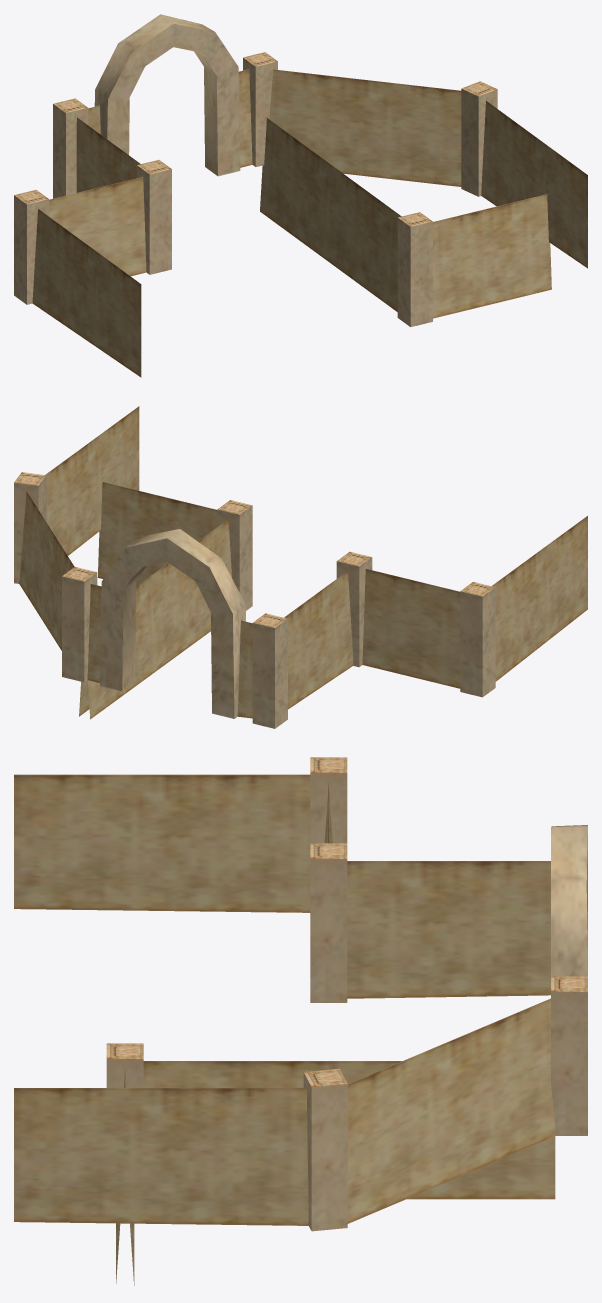
The model's file is poi_tato_corral_half_32x32_s01_l1.fbx.
3 views of the same model, one above another, from view 1: azimuth 30°, elevation 25°; view 2: azimuth 150°, elevation 25°; view 3: azimuth 270°, elevation 25° (orthographic). The views are drawn at different scales.
Parts seen in each view (by area): view 1: mesh_node; view 2: mesh_node; view 3: mesh_node.
Part boxes in pixels (x1=…): mesh_node: x1=14, y1=14, x2=587, y2=377; mesh_node: x1=14, y1=406, x2=587, y2=728; mesh_node: x1=14, y1=757, x2=587, y2=1285.
Bounding box in the file's own units: 21.1 × 9 × 15.5.
1 material, 1 textured.
